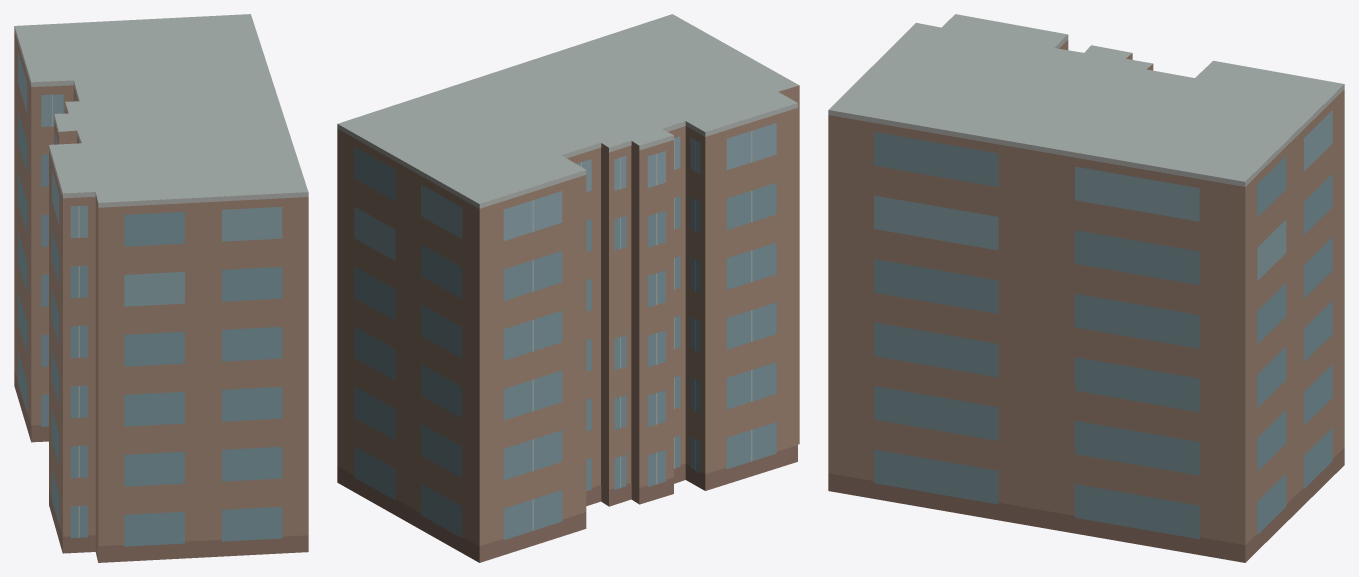
The model's file is survey-upis-32564535.glb.
The picture shows the model from 3 angles, left to right: view 1: azimuth 30°, elevation 25°; view 2: azimuth 150°, elevation 25°; view 3: azimuth 270°, elevation 25°; orthographic projection. The views are drawn at different scales.
Visible parts, largest first — view 1: survey-upis-32564535.tmp; view 2: survey-upis-32564535.tmp; view 3: survey-upis-32564535.tmp.
Part boxes in pixels (<box>): survey-upis-32564535.tmp: <box>14,14,308,562</box>; survey-upis-32564535.tmp: <box>337,14,799,562</box>; survey-upis-32564535.tmp: <box>828,14,1344,562</box>.
Bounding box in the file's own units: 17.3 × 18.3 × 22.48.
